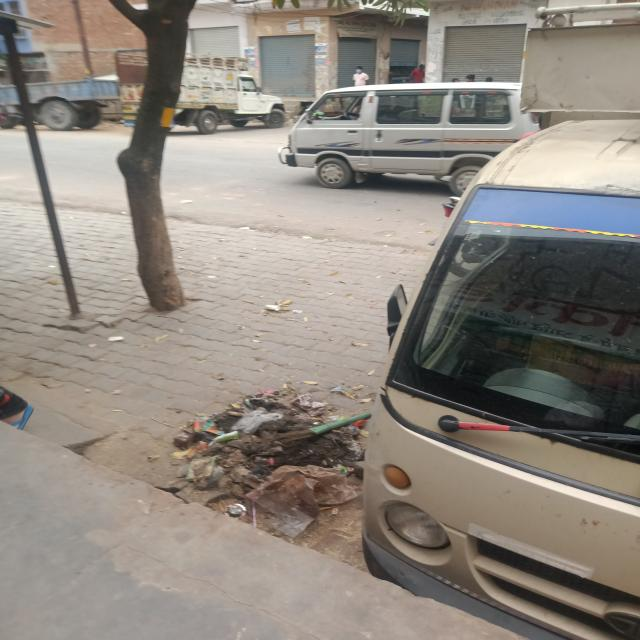Car: (271, 76, 535, 189)
